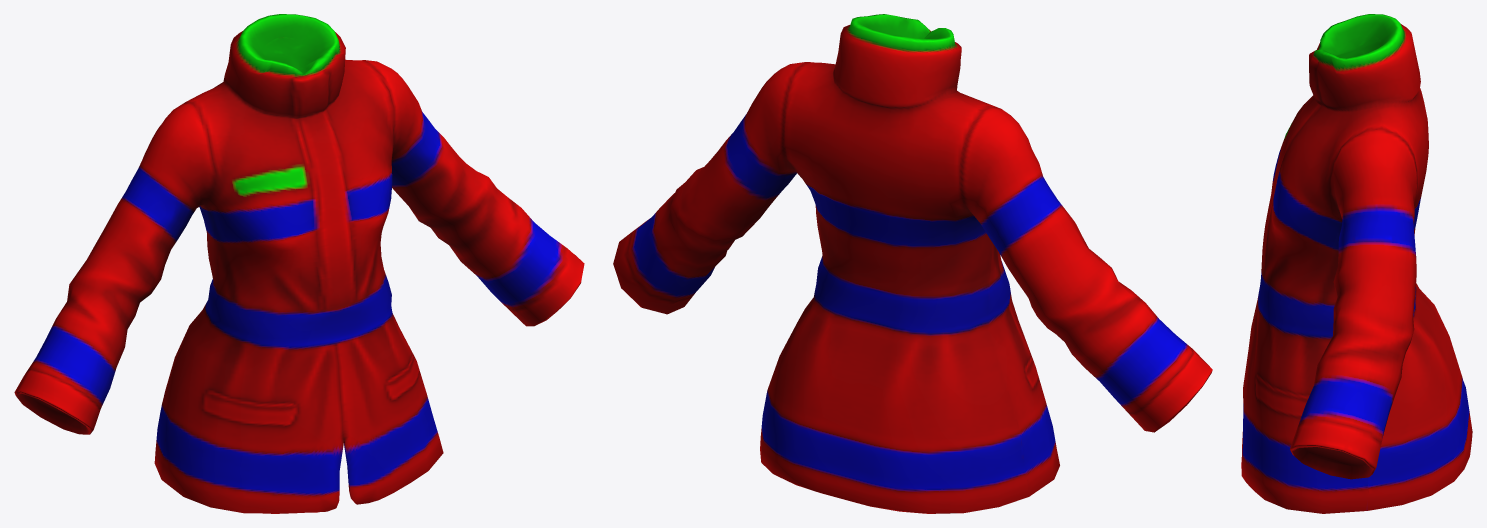
The model's file is Top_Firefighter.obj.
3 views of the same model, side by side, from view 1: azimuth 30°, elevation 25°; view 2: azimuth 150°, elevation 25°; view 3: azimuth 270°, elevation 25° (orthographic). The views are drawn at different scales.
Visible parts, largest first — view 1: Top_Firefighter_0; view 2: Top_Firefighter_0; view 3: Top_Firefighter_0.
Boxes of the visible parts, bbox=[...] form: Top_Firefighter_0: bbox=[14, 14, 584, 513]; Top_Firefighter_0: bbox=[613, 14, 1212, 513]; Top_Firefighter_0: bbox=[1241, 14, 1472, 513].
Bounding box in the file's own units: 0.9604 × 0.7181 × 0.3463.
1 material, 1 textured.
